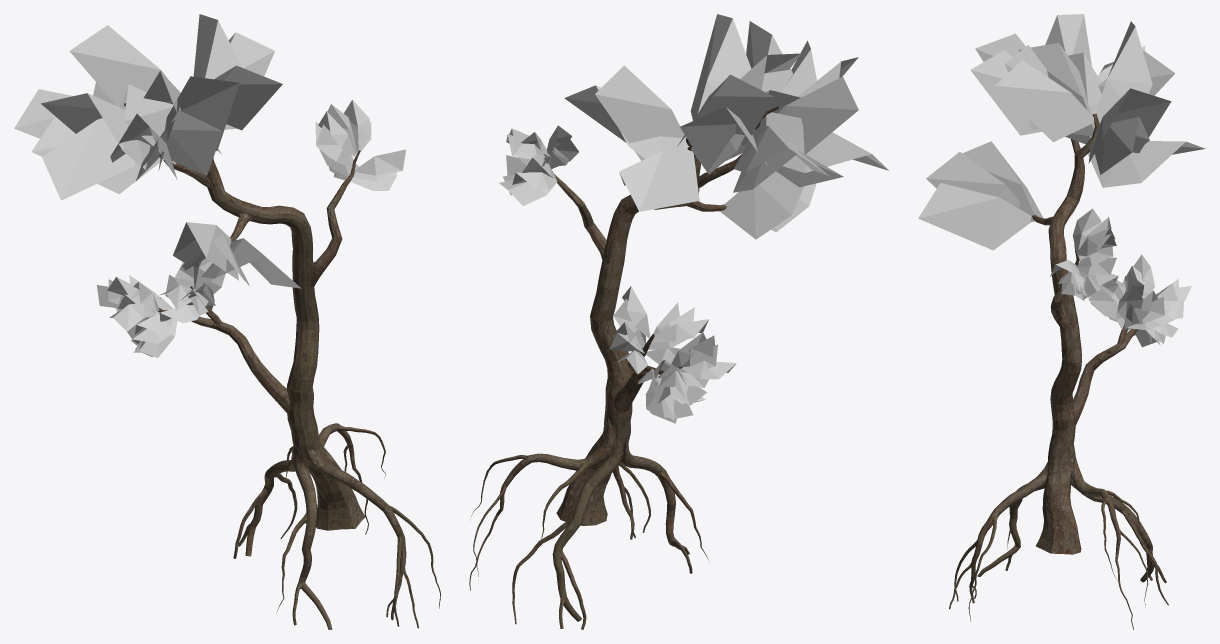
Rendered from House65.fbx.
3 views of the same model, side by side, from view 1: azimuth 30°, elevation 25°; view 2: azimuth 150°, elevation 25°; view 3: azimuth 270°, elevation 25° (orthographic). The views are drawn at different scales.
Parts seen in each view (by area): view 1: AT_BGAgo_TrM01_07B.mo; view 2: AT_BGAgo_TrM01_07B.mo; view 3: AT_BGAgo_TrM01_07B.mo.
Part boxes in pixels (bbox=[...]): AT_BGAgo_TrM01_07B.mo: bbox=[14, 14, 440, 629]; AT_BGAgo_TrM01_07B.mo: bbox=[469, 14, 888, 629]; AT_BGAgo_TrM01_07B.mo: bbox=[918, 14, 1205, 629].
Bounding box in the file's own units: 3486 × 5184 × 2719.
